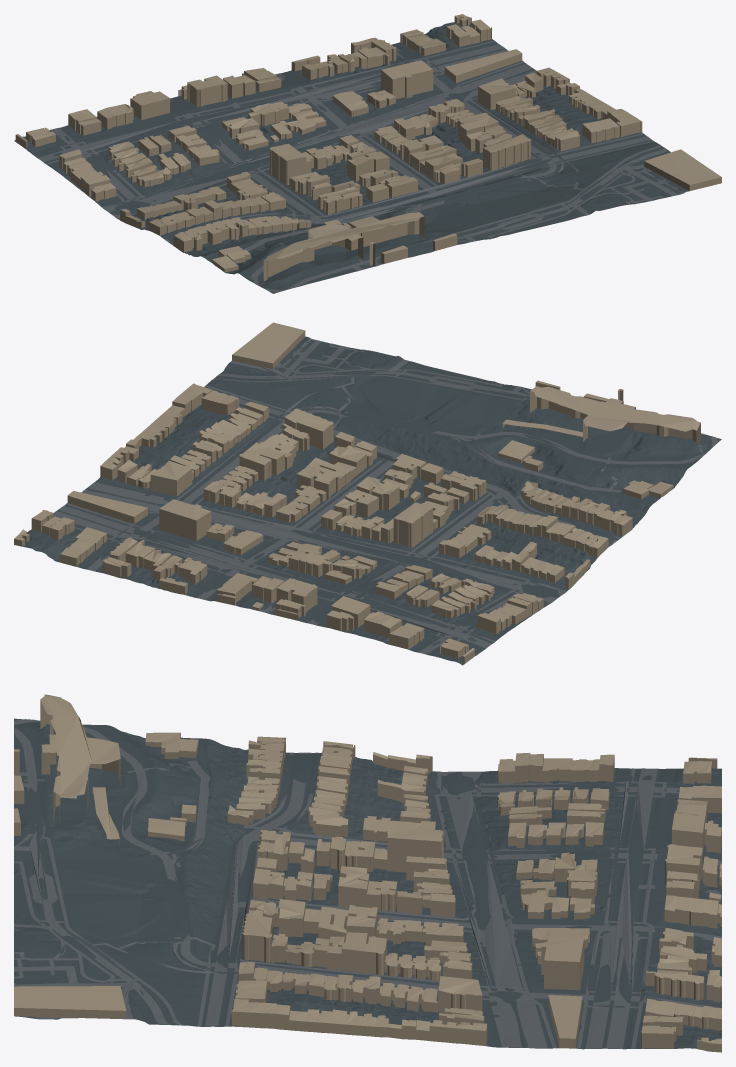
Rendered from epsg26910-1415-10889.lod0.glb.
3 views of the same model, one above another, from view 1: azimuth 30°, elevation 25°; view 2: azimuth 150°, elevation 25°; view 3: azimuth 270°, elevation 25° (orthographic). The views are drawn at different scales.
Parts seen in each view (by area): view 1: epsg26910-1415-10889-lod0; view 2: epsg26910-1415-10889-lod0; view 3: epsg26910-1415-10889-lod0.
Part boxes in pixels (x1,y1,x2,y2): epsg26910-1415-10889-lod0: (14,14,721,293); epsg26910-1415-10889-lod0: (14,322,721,665); epsg26910-1415-10889-lod0: (14,694,721,1052).
Bounding box in the file's own units: 384 × 53.01 × 384.
